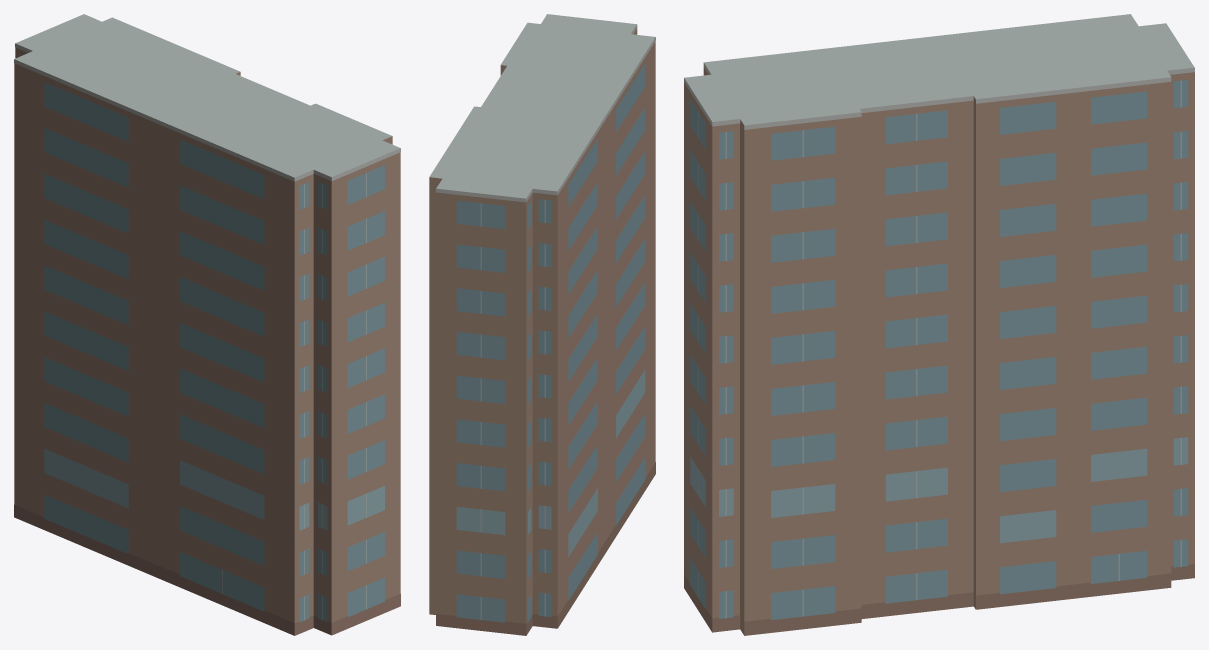
File: survey-upis-32924506.glb
3 views of the same model, side by side, from view 1: azimuth 30°, elevation 25°; view 2: azimuth 150°, elevation 25°; view 3: azimuth 270°, elevation 25° (orthographic). The views are drawn at different scales.
Parts seen in each view (by area): view 1: survey-upis-32924506.tmp; view 2: survey-upis-32924506.tmp; view 3: survey-upis-32924506.tmp.
Boxes of the visible parts, left/top/right/bottom form: survey-upis-32924506.tmp: left=14, top=14, right=400, bottom=635; survey-upis-32924506.tmp: left=429, top=14, right=655, bottom=635; survey-upis-32924506.tmp: left=684, top=14, right=1194, bottom=635.
Bounding box in the file's own units: 13.08 × 27.9 × 25.31.
